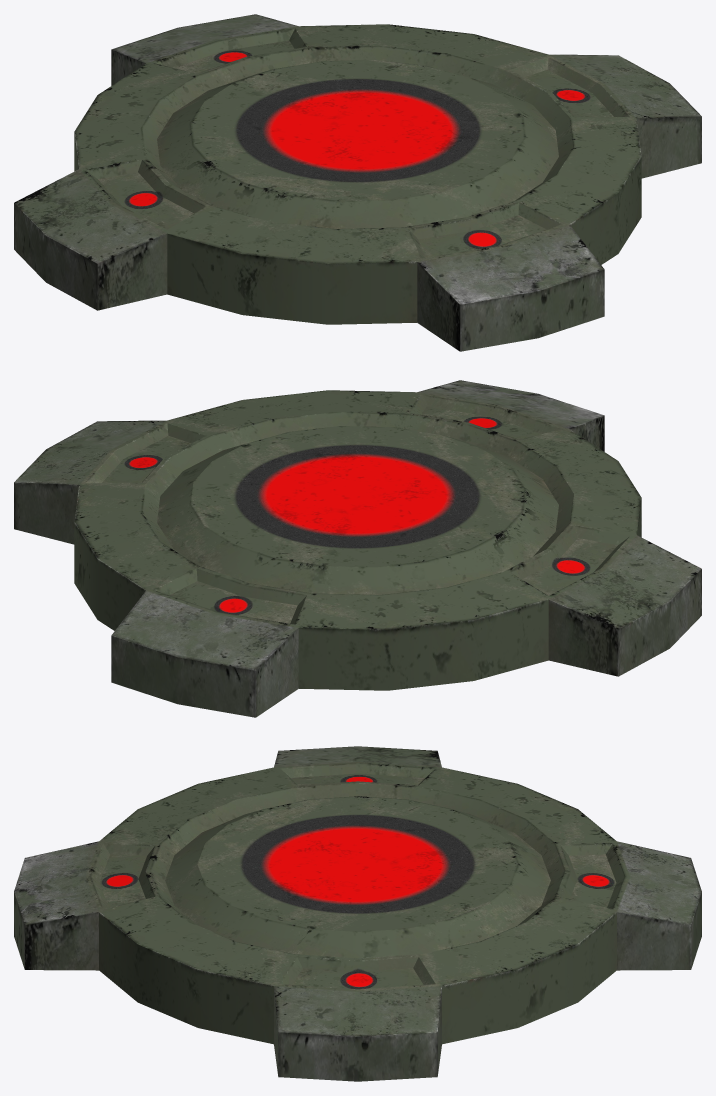
The model's file is landmine.fbx.
The picture shows the model from 3 angles, top to bottom: view 1: azimuth 30°, elevation 25°; view 2: azimuth 150°, elevation 25°; view 3: azimuth 270°, elevation 25°; orthographic projection. The views are drawn at different scales.
Visible parts, largest first — view 1: land mine; view 2: land mine; view 3: land mine.
Boxes of the visible parts, x1,y1,x2,y2 form: land mine: (14, 14, 701, 351); land mine: (14, 380, 701, 717); land mine: (14, 746, 701, 1081).
Bounding box in the file's own units: 330 × 38.21 × 330.
1 material, 1 textured.
